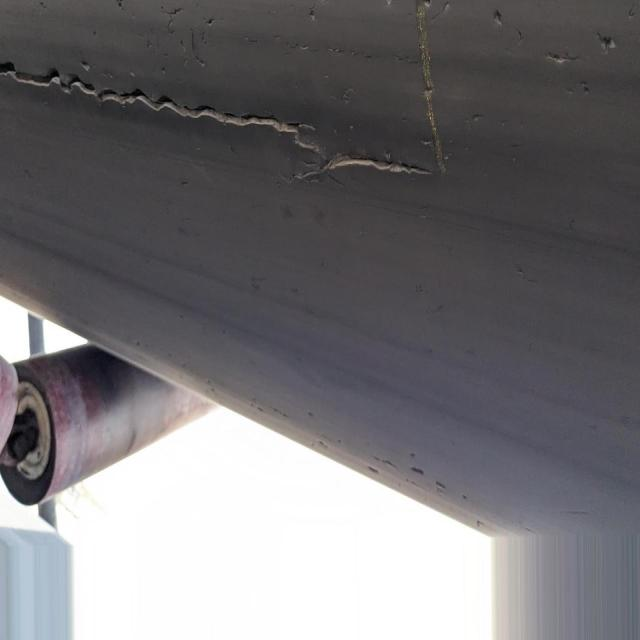Puncture: (596, 25, 628, 61), (540, 49, 577, 74), (494, 3, 509, 30)
Roller: (5, 343, 213, 505)
Tear: (0, 0, 446, 187)
